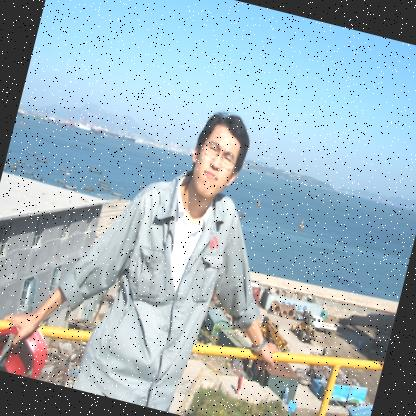sem_capacete: (178, 101, 258, 210)
sem_colete_refletivo: (56, 170, 261, 414)
